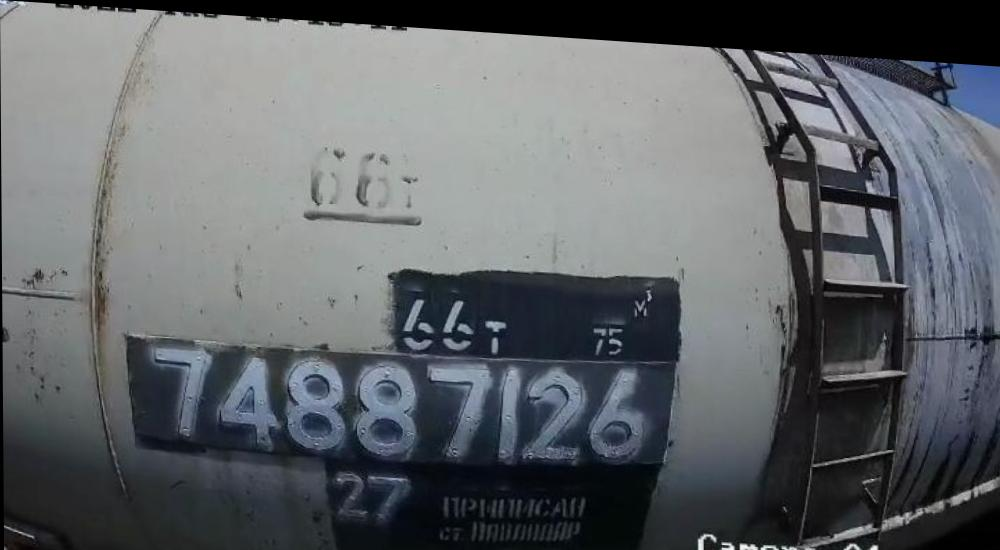Wagon-number: (146, 334, 655, 467)
